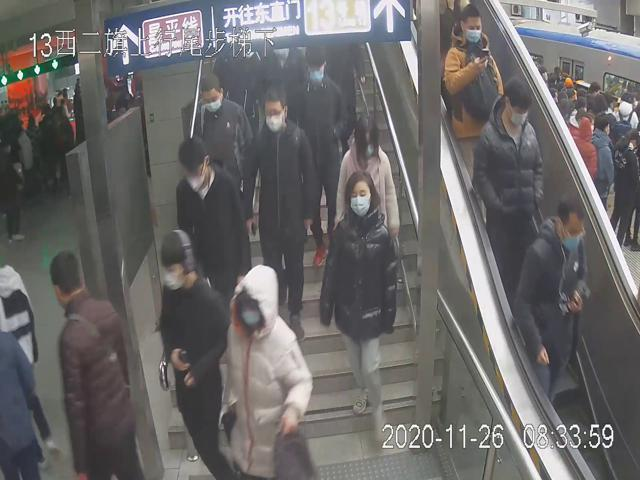person: (320, 171, 400, 449), (240, 80, 321, 341), (222, 261, 314, 477), (511, 194, 593, 408), (159, 227, 229, 477), (472, 76, 547, 280), (293, 43, 350, 264), (443, 4, 508, 192), (177, 136, 253, 292), (332, 117, 401, 246), (193, 72, 252, 194)
